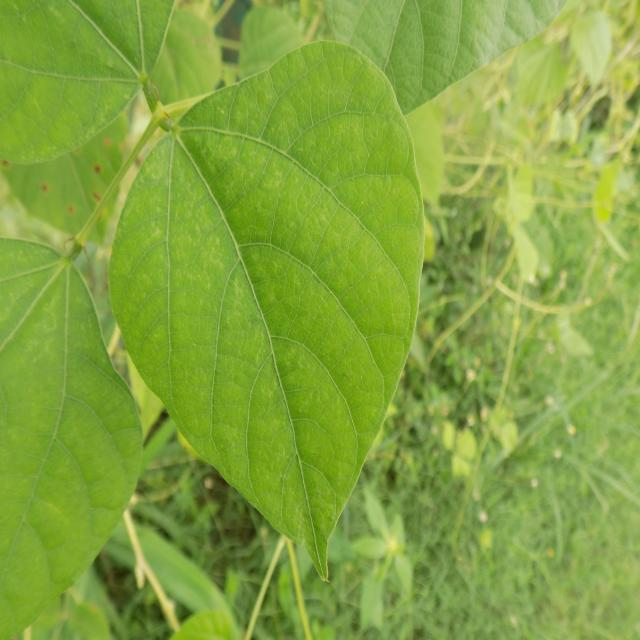Dolicos bean_healthy: (104, 35, 428, 579)
